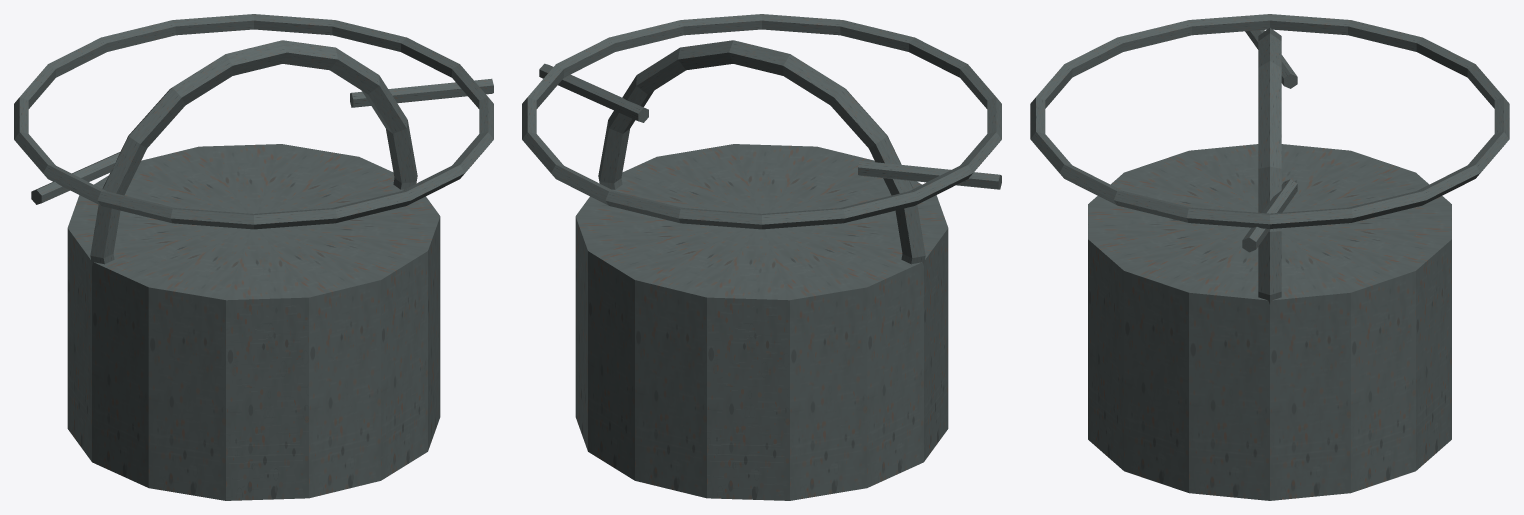
The model's file is pr-015_cook_pot__empty.obj.
3 views of the same model, side by side, from view 1: azimuth 30°, elevation 25°; view 2: azimuth 150°, elevation 25°; view 3: azimuth 270°, elevation 25° (orthographic).
Visible parts, largest first — view 1: pr-015_cook_pot__empty; view 2: pr-015_cook_pot__empty; view 3: pr-015_cook_pot__empty.
Part boxes in pixels (x1,y1,x2,y2): pr-015_cook_pot__empty: (14,14,493,500); pr-015_cook_pot__empty: (522,14,1001,500); pr-015_cook_pot__empty: (1030,14,1509,500).
Bounding box in the file's own units: 0.766 × 0.5989 × 0.6933.
1 material, 1 textured.
